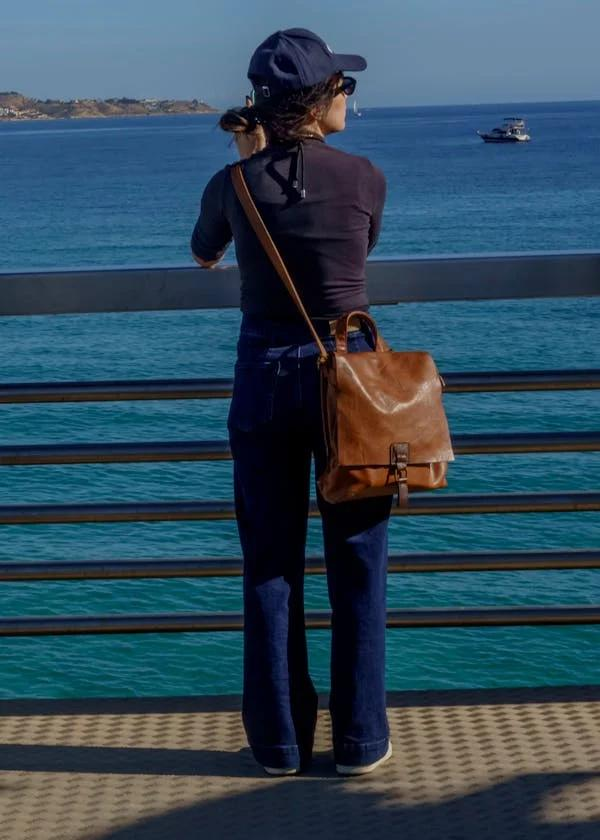Human: (111, 1, 557, 792)
